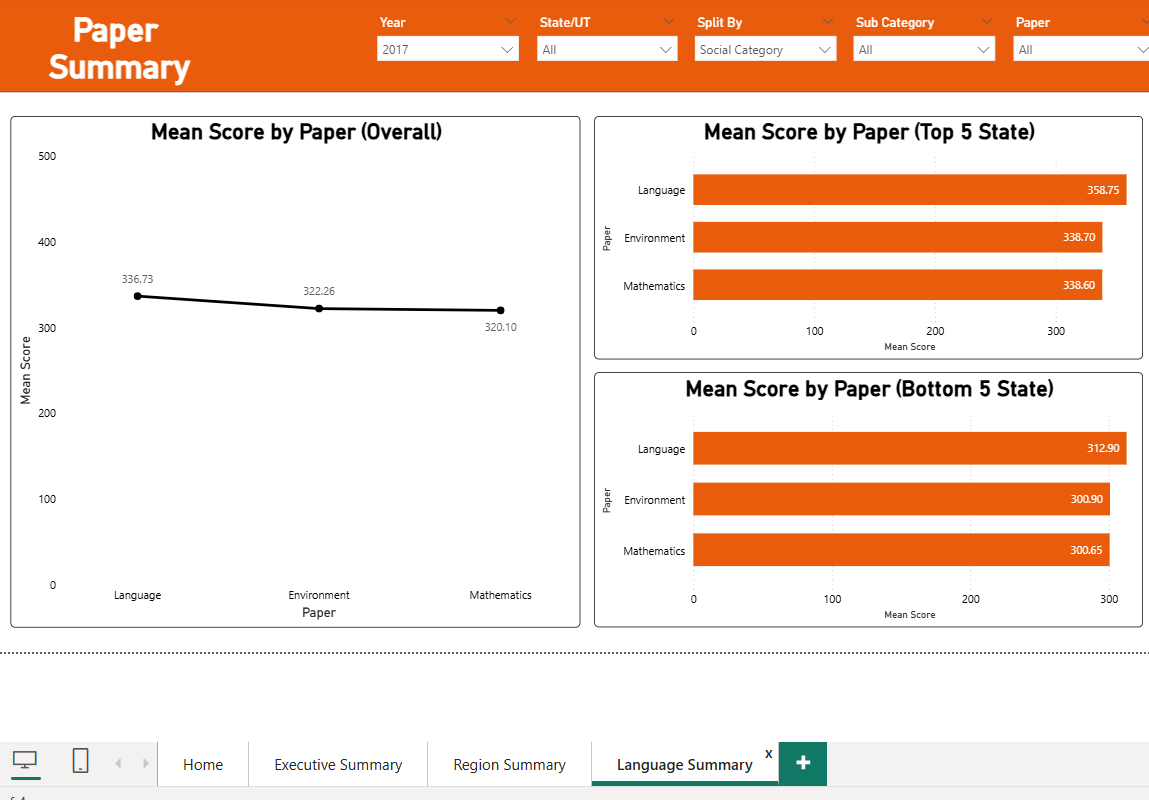

The dashboard page shown, as its layout file describes it:
{"tool":"powerbi","page":{"name":"Language Summary","canvas":[1280,720],"ordinal":3},"visuals":[{"type":"shape","box":[0,0,1280,105.7],"z":0},{"type":"slicer","fields":{"Values":["NAS & Parakh Data Combined.State/UT"]},"box":[582,14.8,173.8,75.4],"z":1000},{"type":"slicer","fields":{"Values":["NAS & Parakh Data Combined.Paper"]},"box":[1104.9,14.8,175.4,75.4],"z":2000},{"type":"slicer","fields":{"Values":["NAS & Parakh Data Combined.Split By"]},"box":[754.1,14.8,175.4,75.4],"z":3000},{"type":"slicer","fields":{"Values":["NAS & Parakh Data Combined.Sub Category"]},"box":[929.5,14.8,175.4,75.4],"z":4000},{"type":"slicer","fields":{"Values":["NAS & Parakh Data Combined.Year"]},"box":[406.6,14.8,175.4,75.4],"z":5000},{"type":"card","fields":{"Values":["NAS & Parakh Data Combined.Language Summary"]},"box":[0,0,267.6,107],"z":6000},{"type":"lineChart","title":"Mean Score by Paper (Overall)","fields":{"Y":["Avg(NAS & Parakh Data Combined.Mean Score)"],"Category":["NAS & Parakh Data Combined.Paper"]},"box":[13.7,131.7,625.7,561.2],"z":7000},{"type":"barChart","title":"Mean Score by Paper (Top 5 State)","fields":{"Y":["Avg(NAS & Parakh Data Combined.Mean Score)"],"Category":["NAS & Parakh Data Combined.Paper"]},"box":[654.5,131.7,602.4,267.6],"z":8000},{"type":"barChart","title":"Mean Score by Paper (Bottom 5 State)","fields":{"Y":["Avg(NAS & Parakh Data Combined.Mean Score)"],"Category":["NAS & Parakh Data Combined.Paper"]},"box":[654.5,413,602.4,279.9],"z":9000}]}

Visuals, with their boxes on the page's 1280x720 design canvas (x1, y1, x2, y2). These are canvas units, not pixel positions in the 1149x800 screenshot, which may show the page scaled, cropped or inside an application window:
shape: select_region(0, 0, 1280, 106)
slicer - NAS & Parakh Data Combined.State/UT: select_region(582, 15, 756, 90)
slicer - NAS & Parakh Data Combined.Paper: select_region(1105, 15, 1280, 90)
slicer - NAS & Parakh Data Combined.Split By: select_region(754, 15, 930, 90)
slicer - NAS & Parakh Data Combined.Sub Category: select_region(930, 15, 1105, 90)
slicer - NAS & Parakh Data Combined.Year: select_region(407, 15, 582, 90)
card - NAS & Parakh Data Combined.Language Summary: select_region(0, 0, 268, 107)
"Mean Score by Paper (Overall)" lineChart: select_region(14, 132, 639, 693)
"Mean Score by Paper (Top 5 State)" barChart: select_region(654, 132, 1257, 399)
"Mean Score by Paper (Bottom 5 State)" barChart: select_region(654, 413, 1257, 693)
